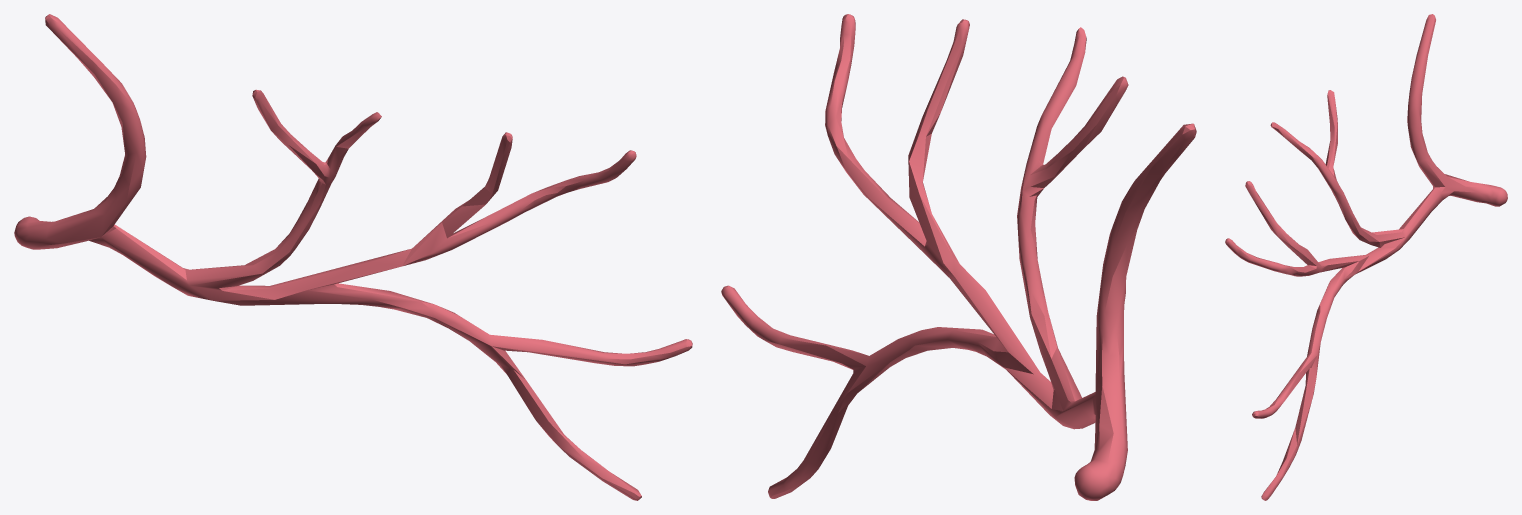
File: fma49705_fj5131.glb
3 views of the same model, side by side, from view 1: azimuth 30°, elevation 25°; view 2: azimuth 150°, elevation 25°; view 3: azimuth 270°, elevation 25° (orthographic). The views are drawn at different scales.
Visible parts, largest first — view 1: FMA49705_FJ5131; view 2: FMA49705_FJ5131; view 3: FMA49705_FJ5131.
Boxes of the visible parts, <box> form: FMA49705_FJ5131: <box>14,14,692,500</box>; FMA49705_FJ5131: <box>721,14,1196,500</box>; FMA49705_FJ5131: <box>1225,14,1507,500</box>.
Size of the model in its own units: 0.0189 by 0.0178 by 0.0136.
